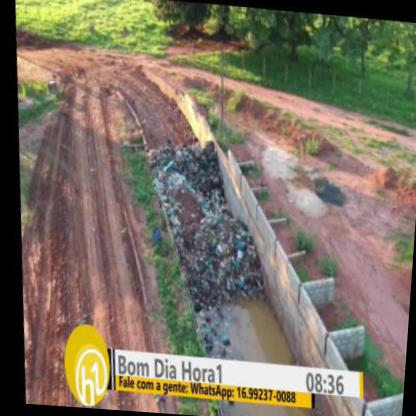agua: (218, 300, 278, 364)
lixo: (152, 148, 253, 282)
